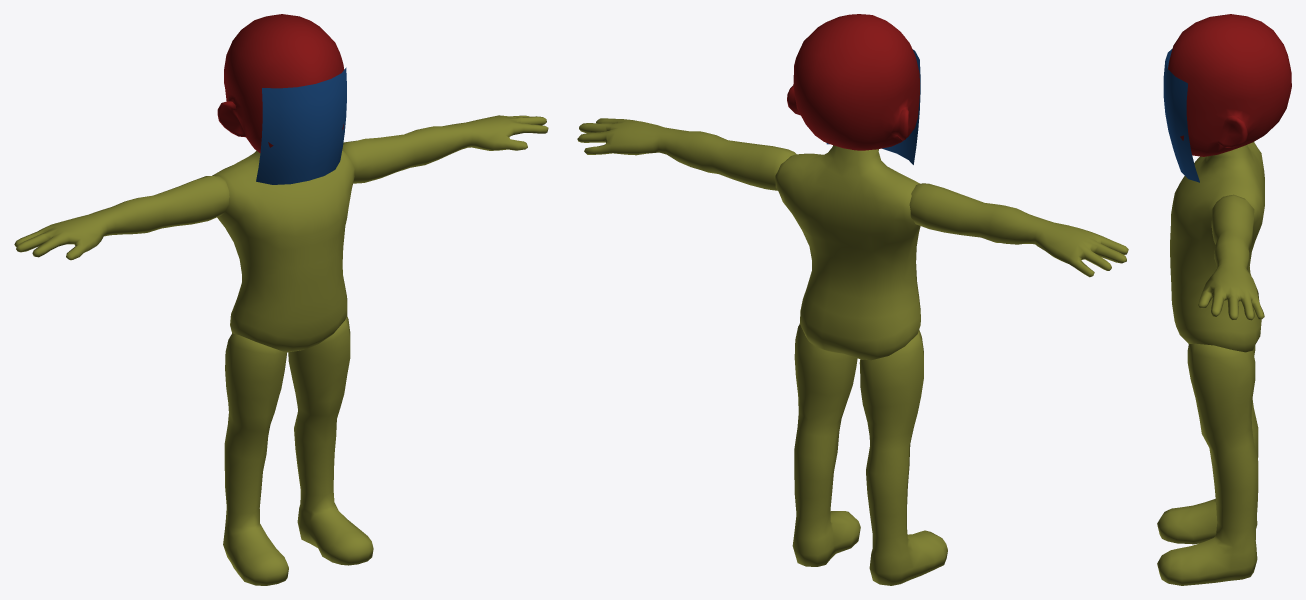
Rendered from Player_Normal.fbx.
3 views of the same model, side by side, from view 1: azimuth 30°, elevation 25°; view 2: azimuth 150°, elevation 25°; view 3: azimuth 270°, elevation 25° (orthographic). The views are drawn at different scales.
Parts seen in each view (by area): view 1: Body, R_Leg, L_Leg, Head, Face_01, R_Arm, L_Arm; view 2: Body, Head, R_Leg, L_Leg, R_Arm, L_Arm, Face_01; view 3: L_Leg, Head, Body, L_Arm, R_Leg, Face_01.
Boxes of the visible parts, x1,y1,x2,y2 form: Body: [212, 150, 354, 352]; R_Leg: [223, 333, 288, 585]; L_Leg: [288, 316, 373, 565]; Head: [217, 14, 344, 152]; Face_01: [256, 67, 346, 184]; R_Arm: [14, 176, 229, 260]; L_Arm: [342, 115, 548, 183]; Body: [775, 145, 920, 360]; Head: [787, 14, 920, 150]; R_Leg: [859, 330, 947, 585]; L_Leg: [792, 324, 860, 566]; R_Arm: [909, 183, 1128, 277]; L_Arm: [577, 118, 796, 190]; Face_01: [826, 49, 920, 164]; L_Leg: [1157, 343, 1258, 585]; Head: [1168, 14, 1291, 156]; Body: [1170, 142, 1264, 352]; L_Arm: [1198, 194, 1264, 320]; R_Leg: [1157, 345, 1258, 544]; Face_01: [1163, 49, 1199, 182].
Size of the model in its own units: 208 by 198 by 45.35.
